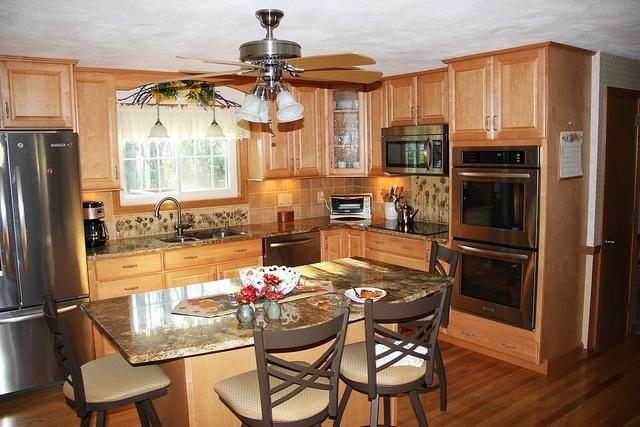Kursi: (41, 291, 172, 426), (212, 306, 350, 426), (335, 285, 447, 426)
Lemari: (447, 43, 547, 137), (260, 82, 322, 181)
